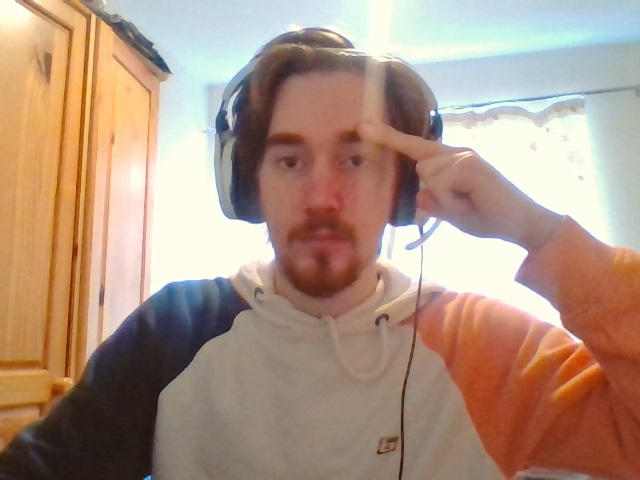name: (356, 118, 476, 223)
